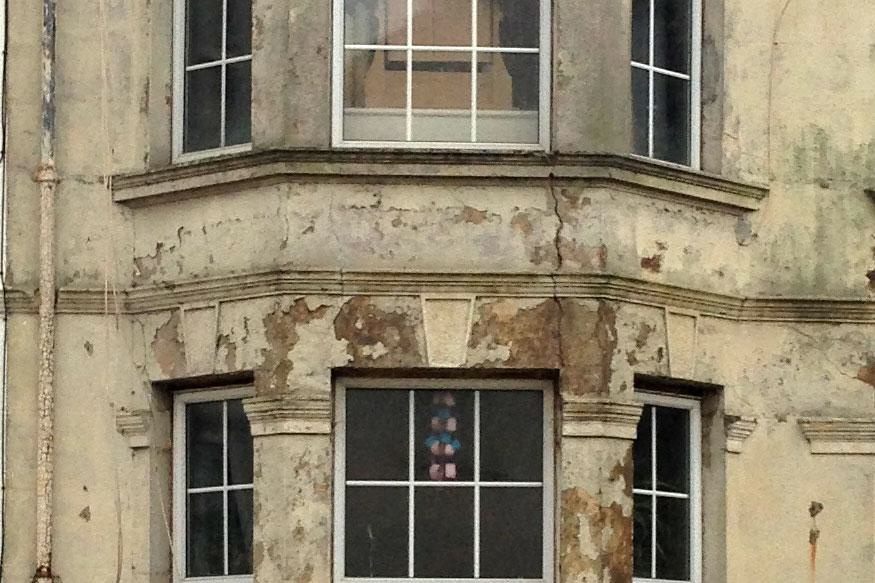crack: (542, 171, 573, 251), (544, 264, 576, 337)
